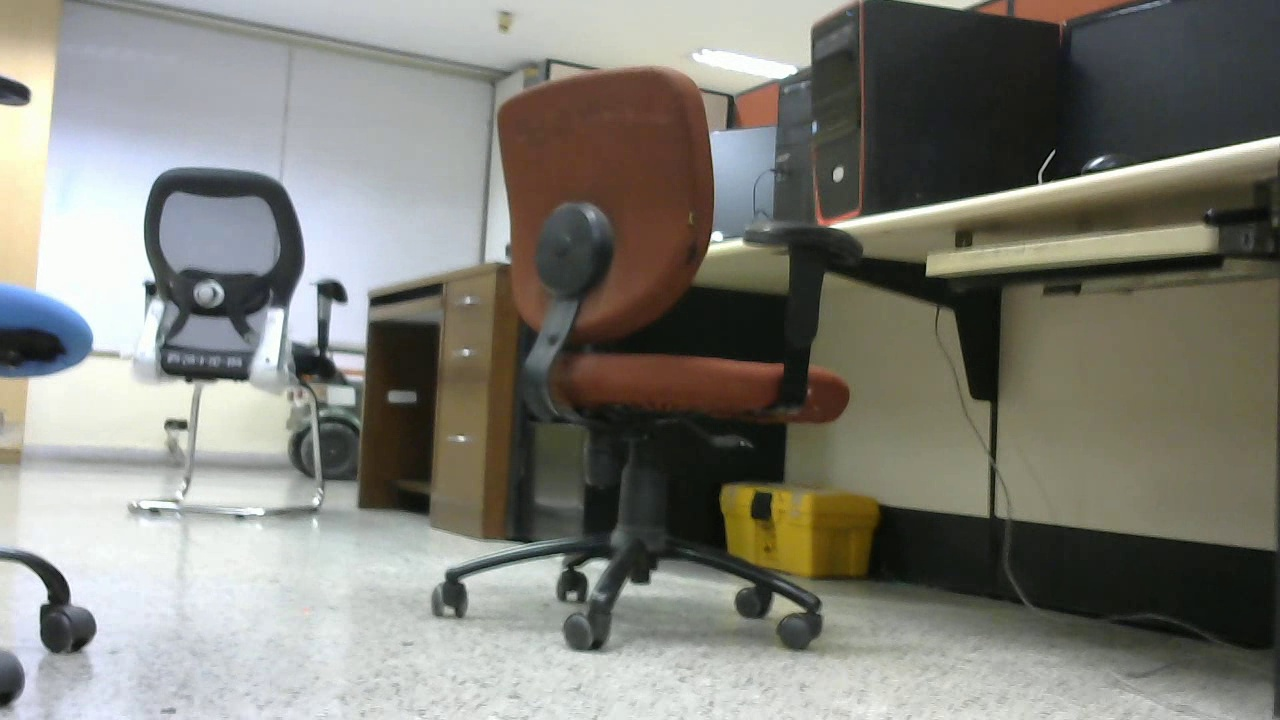chair: (427, 64, 830, 657), (117, 157, 335, 520)
